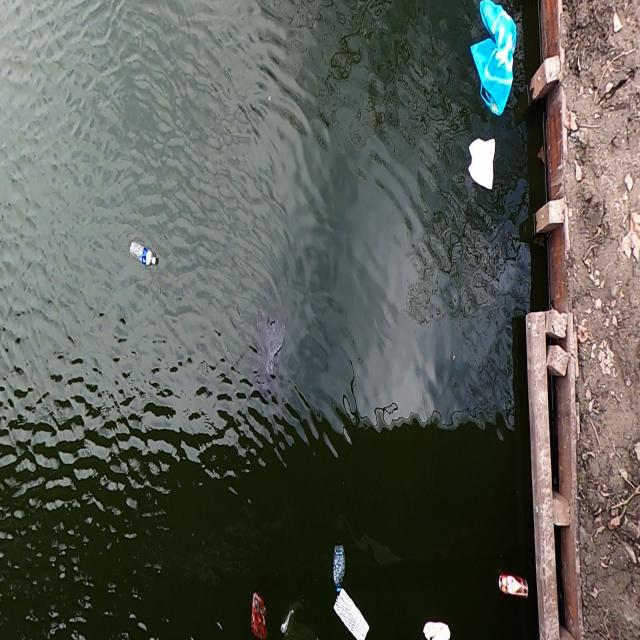Autre plastique: (464, 134, 502, 196)
Bouteille plastique: (126, 234, 161, 271), (329, 541, 348, 595)
Non plastique: (493, 568, 532, 608)
Sac plastique: (468, 0, 523, 125)
